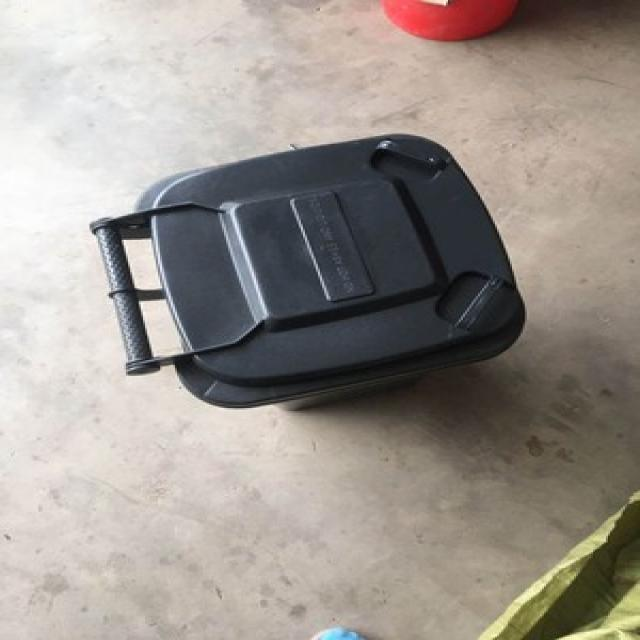ash bin: (85, 130, 527, 410)
